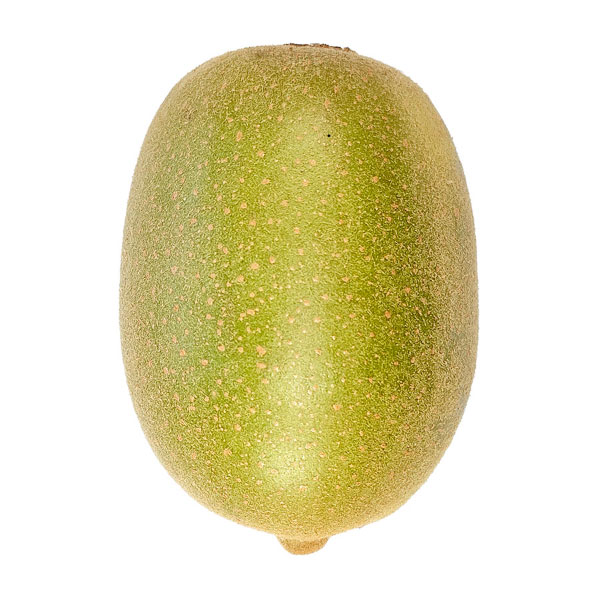kiwi: (104, 28, 510, 550)
